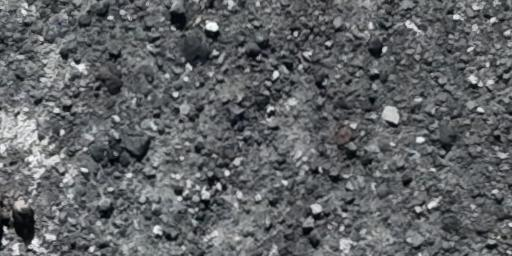skua: (9, 192, 41, 249)
